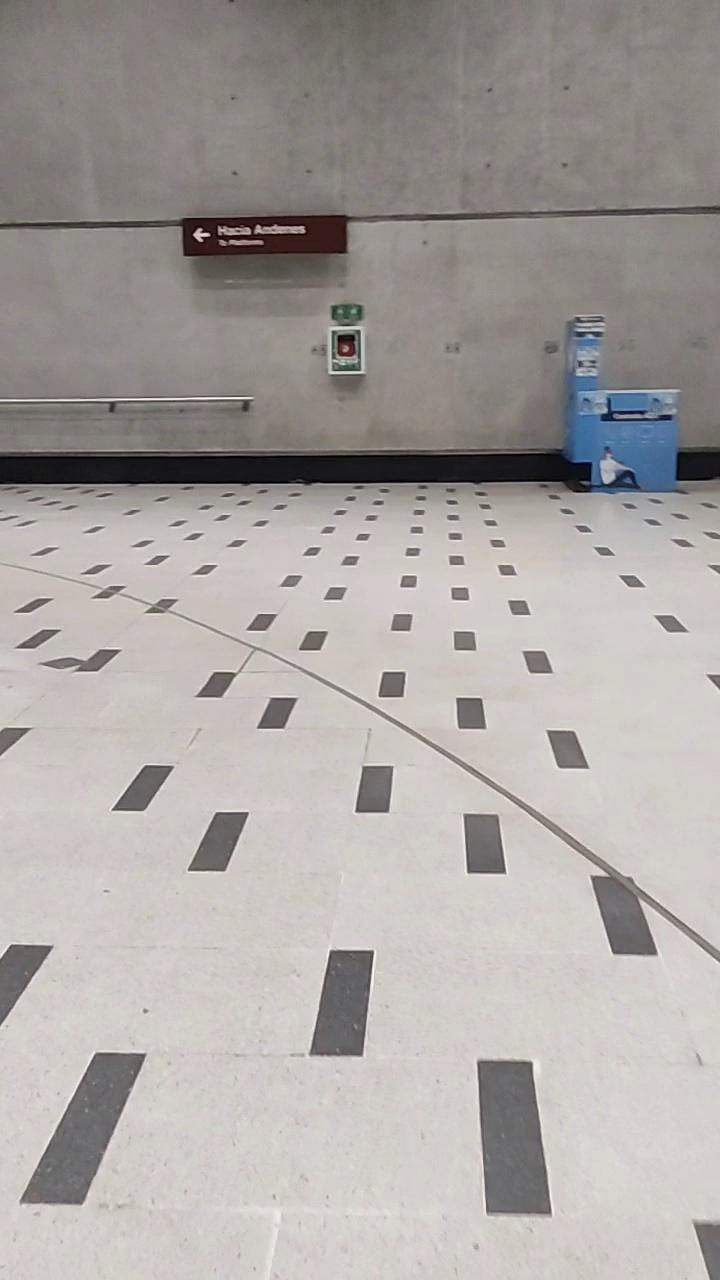left arrow: (192, 223, 212, 247)
